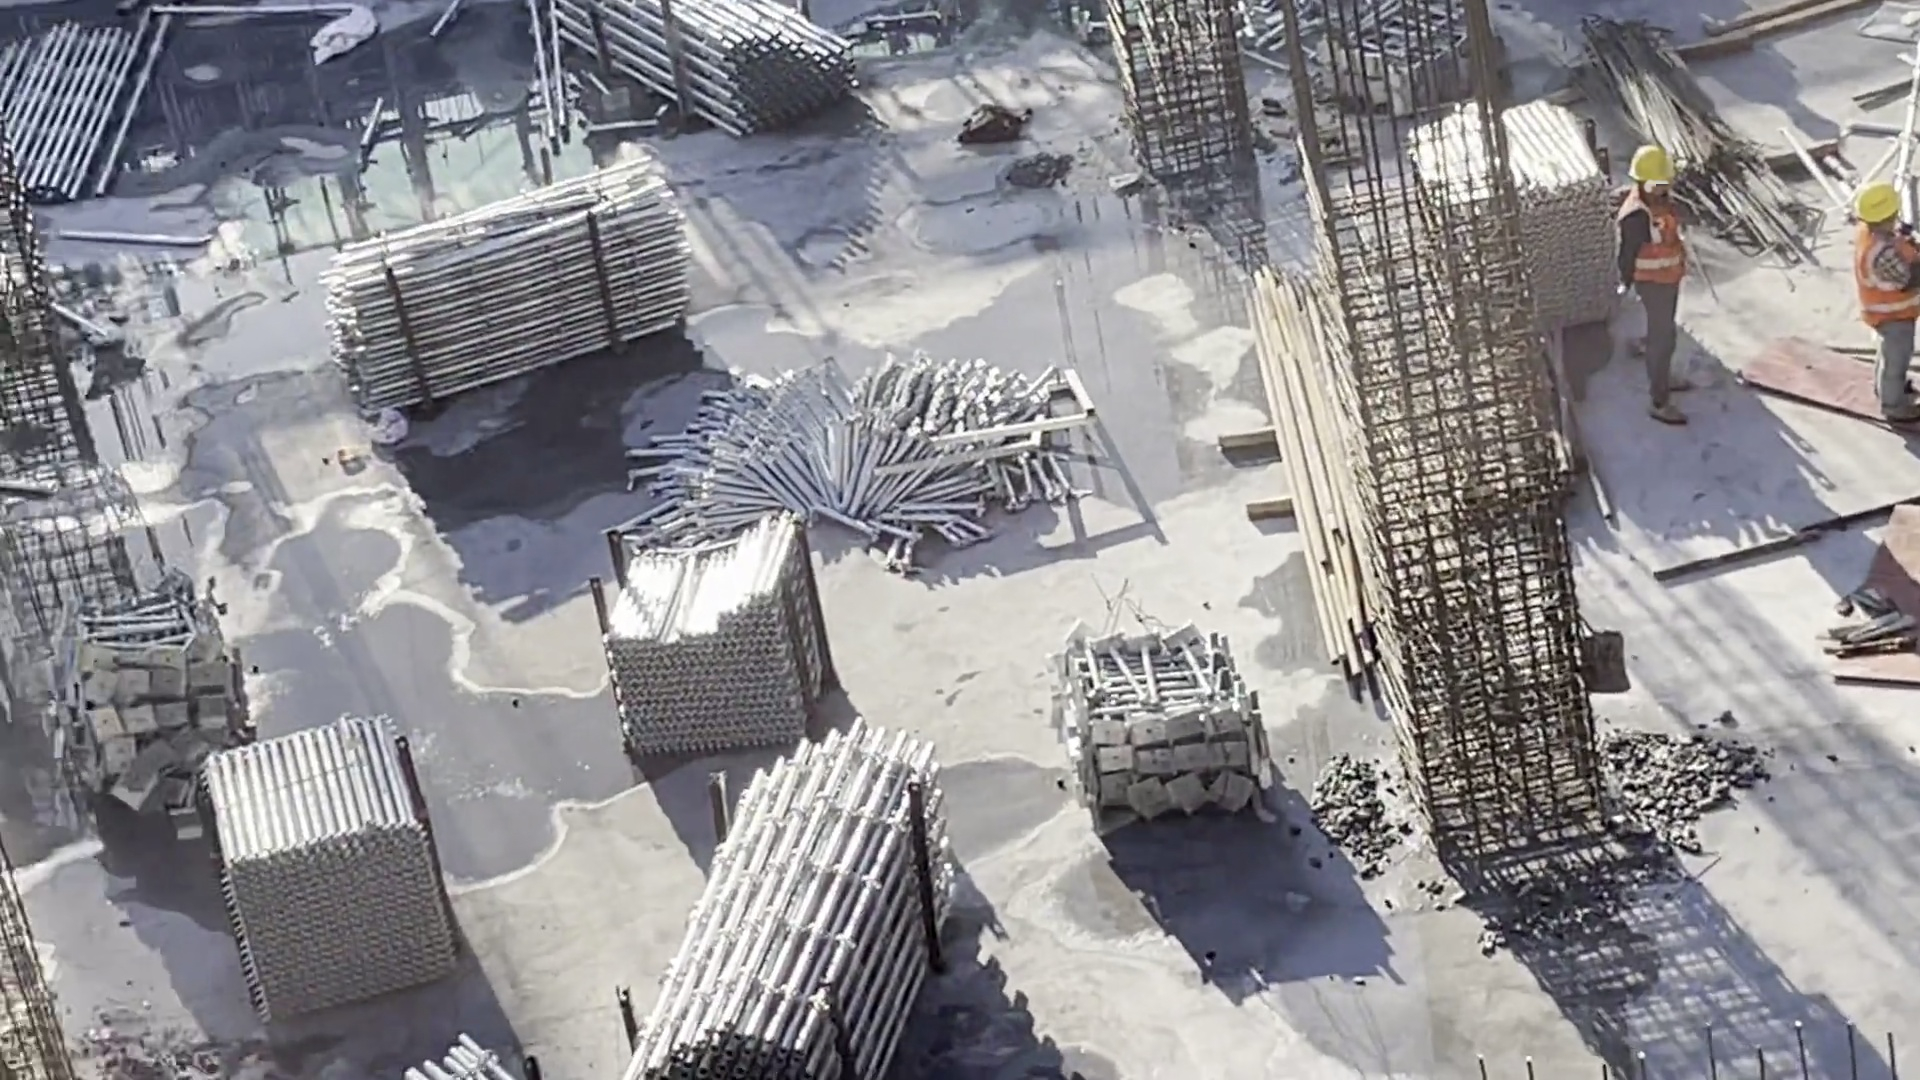helmet: (1857, 185, 1908, 237), (1638, 144, 1688, 191)
person: (1611, 142, 1706, 443), (1844, 175, 1920, 442)
rebar: (1610, 38, 1778, 232)
scaffold: (630, 744, 976, 1080), (361, 161, 669, 417), (653, 382, 1068, 538), (217, 737, 431, 1008), (613, 533, 817, 757), (548, 1, 876, 116), (1419, 124, 1599, 320), (1, 20, 133, 201), (411, 1040, 507, 1080)
vest: (1621, 204, 1681, 302), (1857, 244, 1907, 333)
